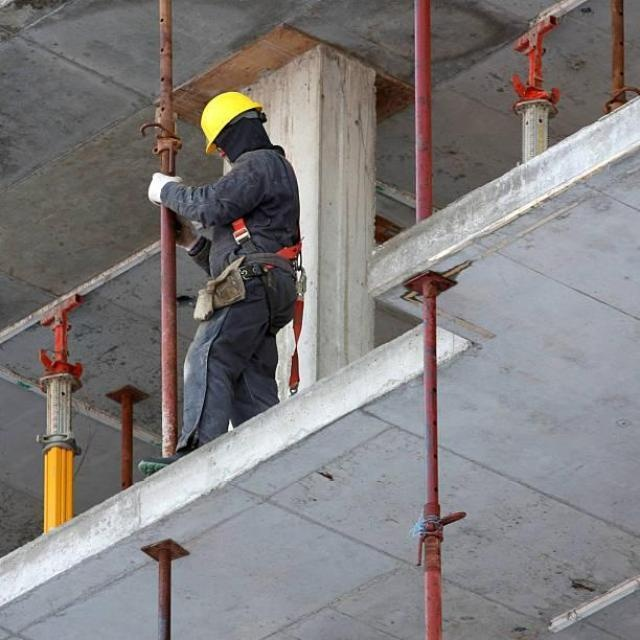Arnes_seguridad: (212, 161, 322, 339)
